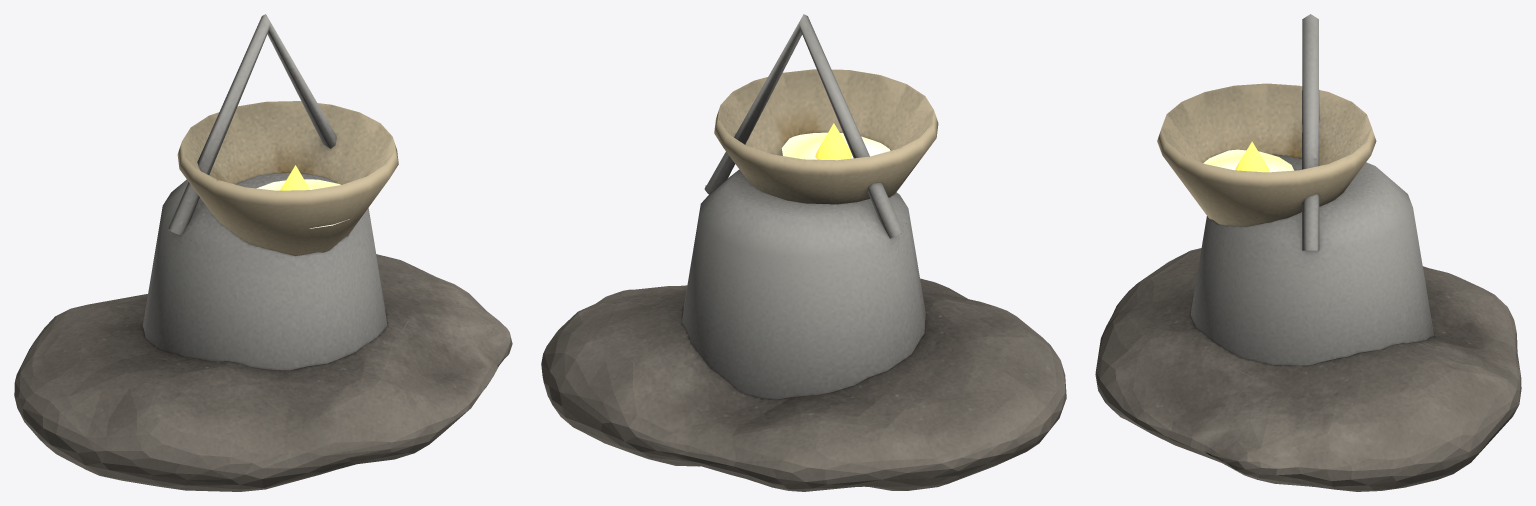
File: canion_lamparina.glb
3 views of the same model, side by side, from view 1: azimuth 30°, elevation 25°; view 2: azimuth 150°, elevation 25°; view 3: azimuth 270°, elevation 25° (orthographic). The views are drawn at different scales.
Visible parts, largest first — view 1: canion_lamparina_tronco; view 2: canion_lamparina_tronco, brilho, chama; view 3: canion_lamparina_tronco, brilho, chama.
Boxes of the visible parts, x1,y1,x2,y2 form: canion_lamparina_tronco: (14, 14, 512, 491); canion_lamparina_tronco: (541, 14, 1066, 491); brilho: (781, 132, 890, 159); chama: (815, 123, 852, 160); canion_lamparina_tronco: (1095, 14, 1521, 491); brilho: (1203, 149, 1293, 172); chama: (1235, 141, 1269, 172).
Size of the model in its own units: 0.3534 by 0.3157 by 0.2913.
3 materials, 1 textured.
